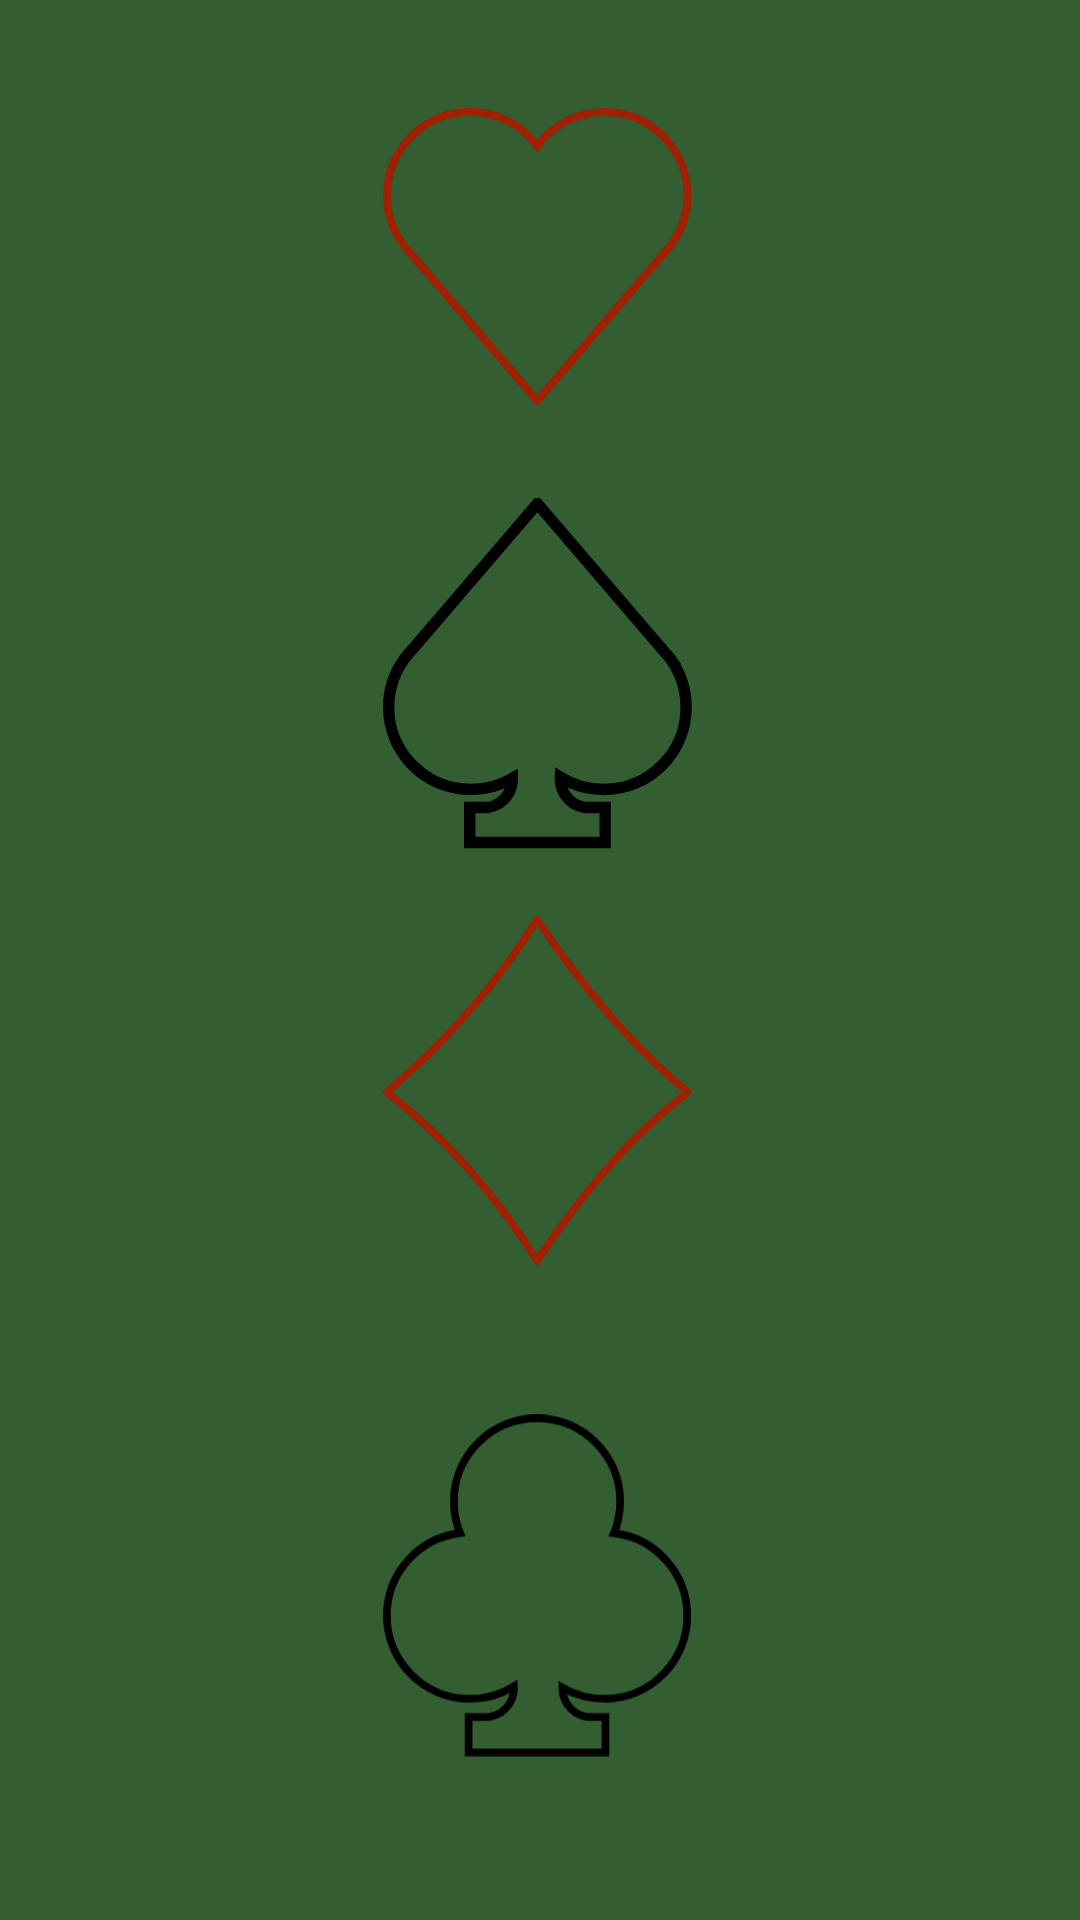

Icon click points for this 1080px x 1920px phone screenshot, format point (x, y):
clover: point (537, 1585)
heart: point (537, 256)
spades: point (537, 673)
tiles: point (537, 1090)
